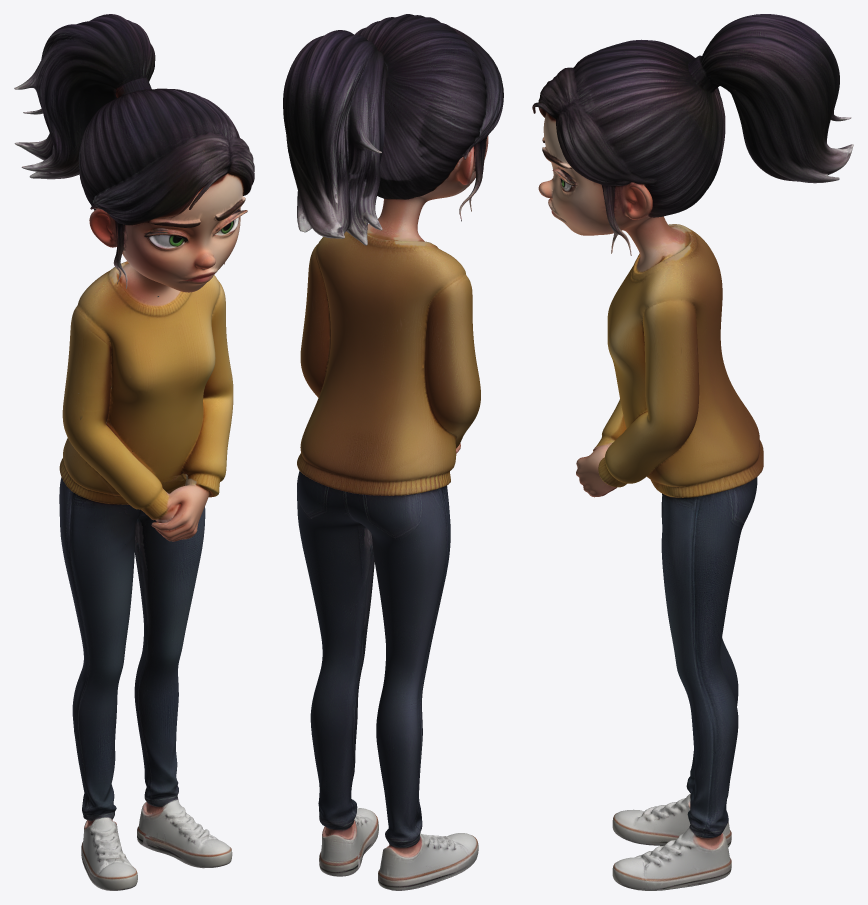
The model's file is jealous_part.glb.
3 views of the same model, side by side, from view 1: azimuth 30°, elevation 25°; view 2: azimuth 150°, elevation 25°; view 3: azimuth 270°, elevation 25° (orthographic). The views are drawn at different scales.
Bounding box in the file's own units: 0.3998 × 1.9 × 0.6558.
Materials: 1 (1 with a texture image).
